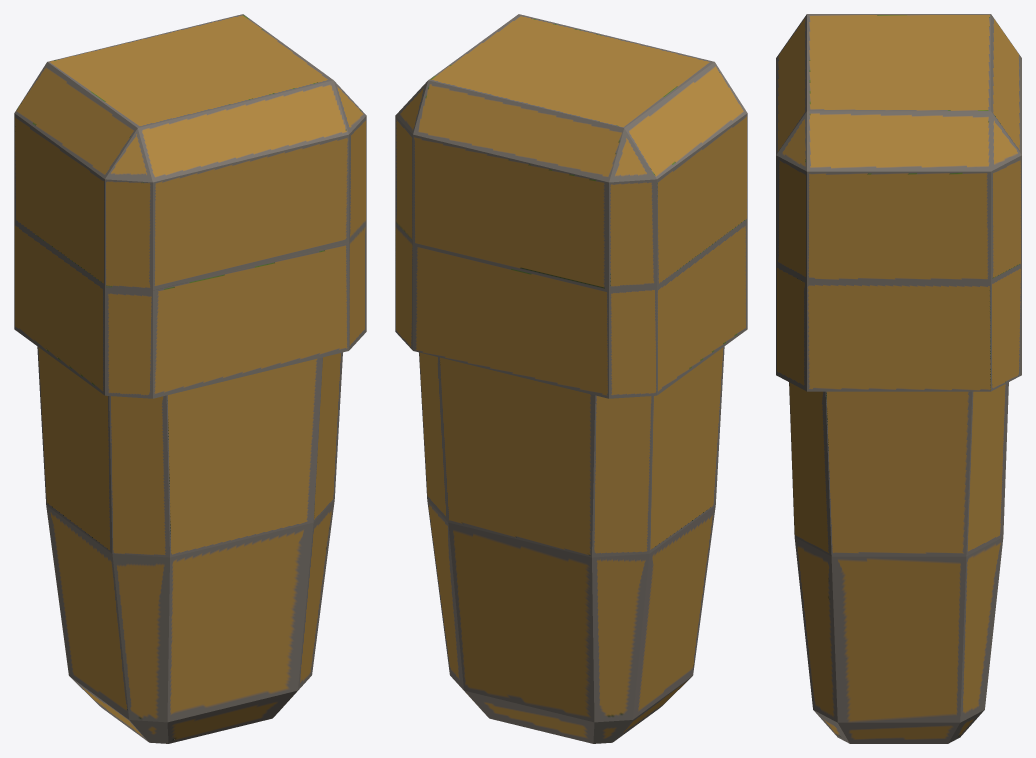
File: RArmAbove.fbx
3 views of the same model, side by side, from view 1: azimuth 30°, elevation 25°; view 2: azimuth 150°, elevation 25°; view 3: azimuth 270°, elevation 25° (orthographic).
Parts seen in each view (by area): view 1: Shape_IndexedFaceSet.044; view 2: Shape_IndexedFaceSet.044; view 3: Shape_IndexedFaceSet.044.
Part boxes in pixels (bbox=[...]): Shape_IndexedFaceSet.044: bbox=[14, 14, 366, 743]; Shape_IndexedFaceSet.044: bbox=[395, 14, 747, 743]; Shape_IndexedFaceSet.044: bbox=[776, 14, 1021, 743].
Bounding box in the file's own units: 0.1013 × 0.2361 × 0.0811.
